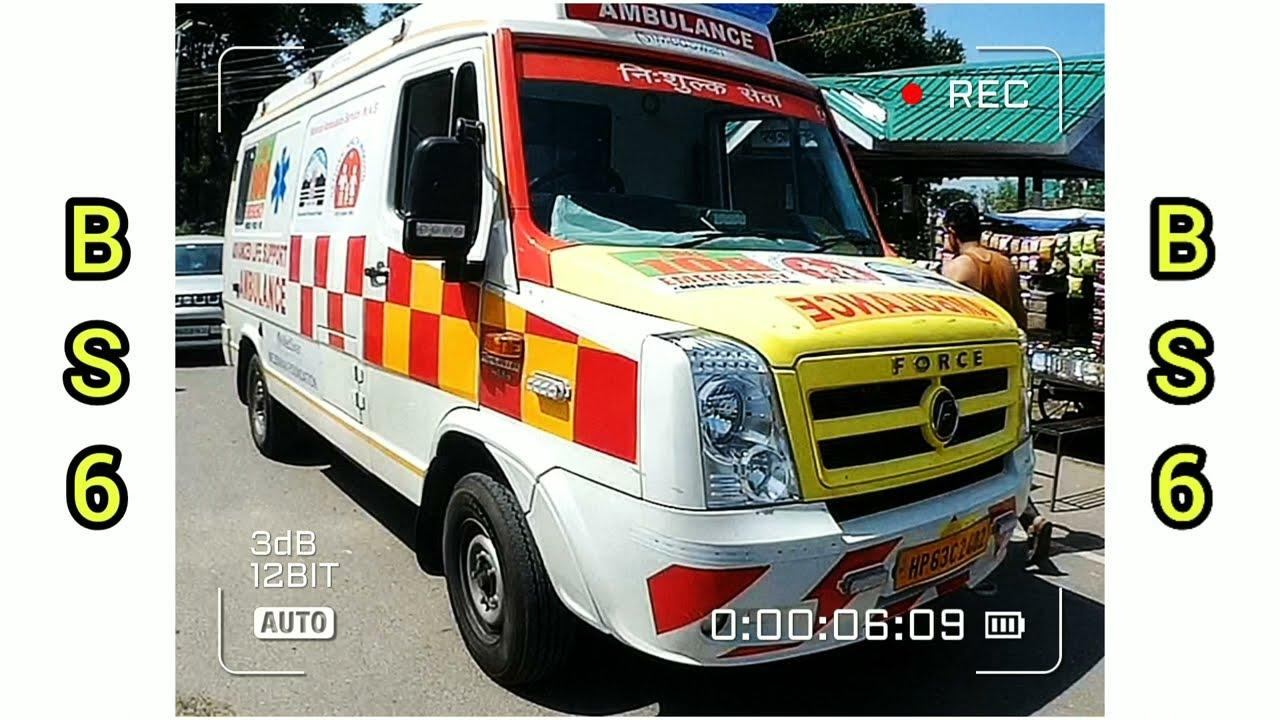ER: (221, 2, 1039, 696)
